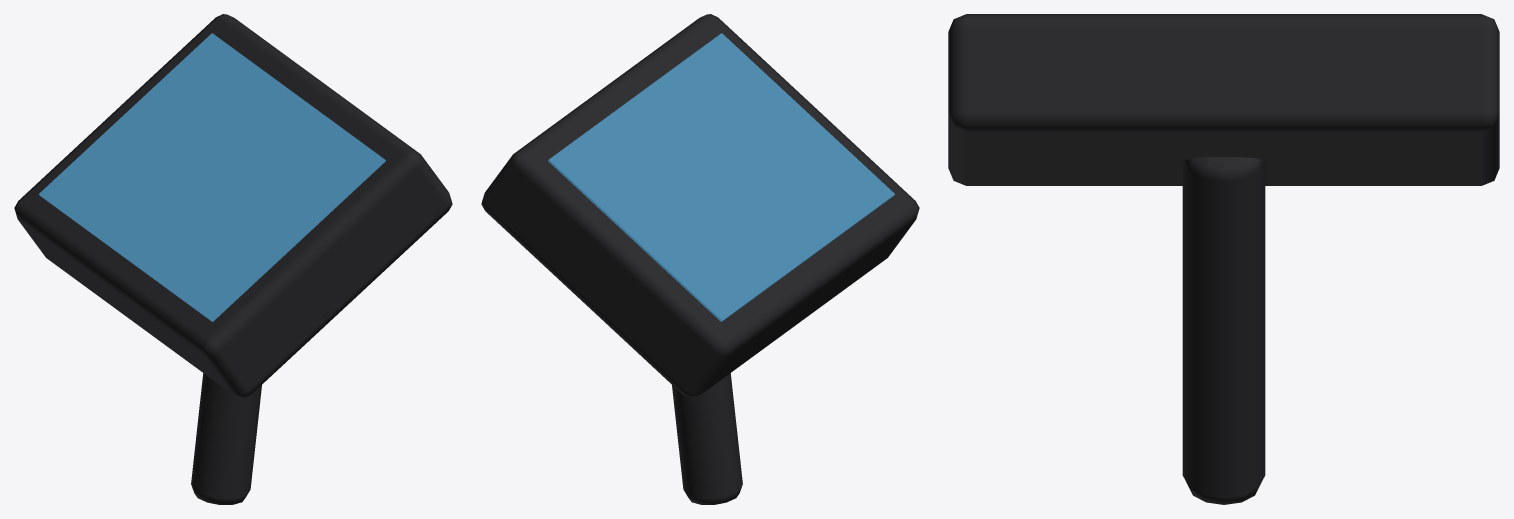
File: bike_electric__instruments.glb
The picture shows the model from 3 angles, left to right: view 1: azimuth 30°, elevation 25°; view 2: azimuth 150°, elevation 25°; view 3: azimuth 270°, elevation 25°; orthographic projection. The views are drawn at different scales.
Parts seen in each view (by area): view 1: electrical__tft_dash__screen, electrical__tft_dash; view 2: electrical__tft_dash__screen, electrical__tft_dash; view 3: electrical__tft_dash.
Boxes of the visible parts, left/top/right/bottom form: electrical__tft_dash__screen: left=39, top=33, right=385, bottom=321; electrical__tft_dash: left=14, top=14, right=452, bottom=504; electrical__tft_dash__screen: left=548, top=33, right=894, bottom=321; electrical__tft_dash: left=481, top=14, right=919, bottom=504; electrical__tft_dash: left=948, top=14, right=1499, bottom=504.
Bounding box in the file's own units: 8.63 × 13.05 × 12.
